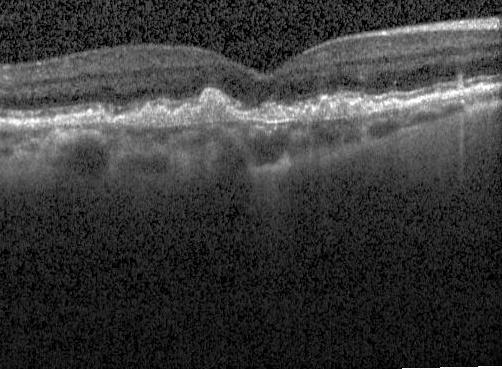retinal_drusen: (312, 96, 366, 121), (200, 91, 229, 122), (254, 103, 287, 123), (174, 105, 193, 125), (155, 107, 172, 126), (139, 105, 153, 127), (382, 99, 400, 109), (303, 106, 311, 120), (365, 104, 374, 111)
